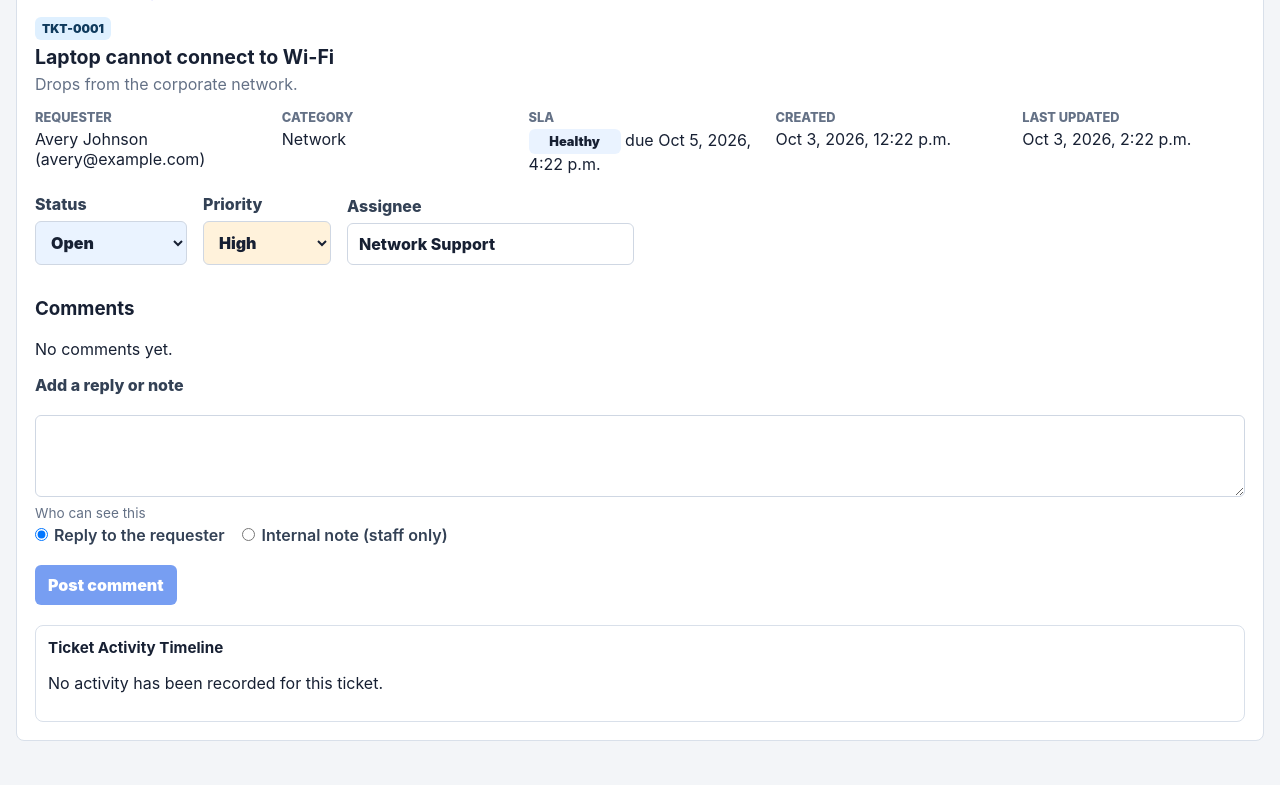
Test: writing › clears the form and reloads the thread after posting
This screenshot has width=1280, height=785.
(page scrolled)
Check: the heading "Comments" is shown, box [35,297,134,320]
Check: the text "No comments yet." is shown, box [35,339,173,359]
Type "Posted just now." into the text box labelled "Add a reply or note".
click(640, 456); type("Posted just now.")  # box [35,415,1245,497]
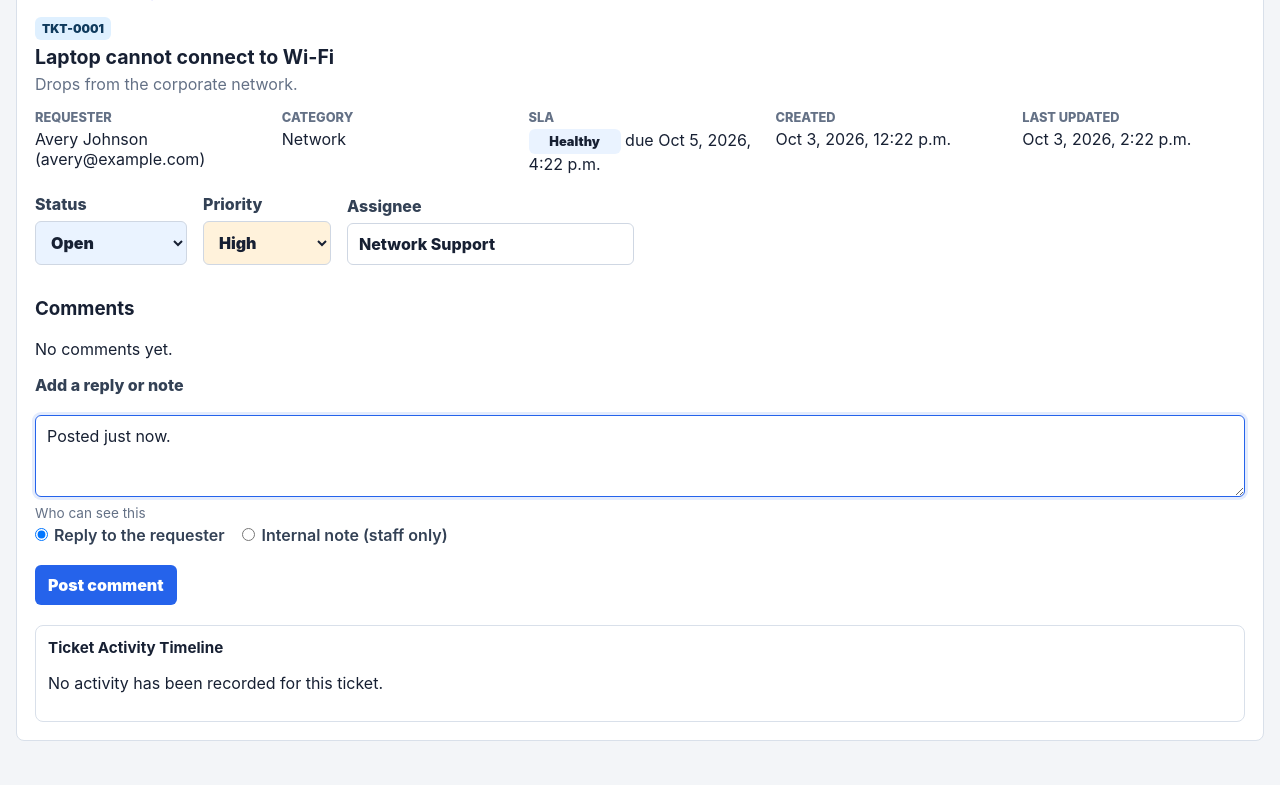
Click the radio button labelled "Internal note (staff only)".
click(249, 535)  # box [242,528,256,541]
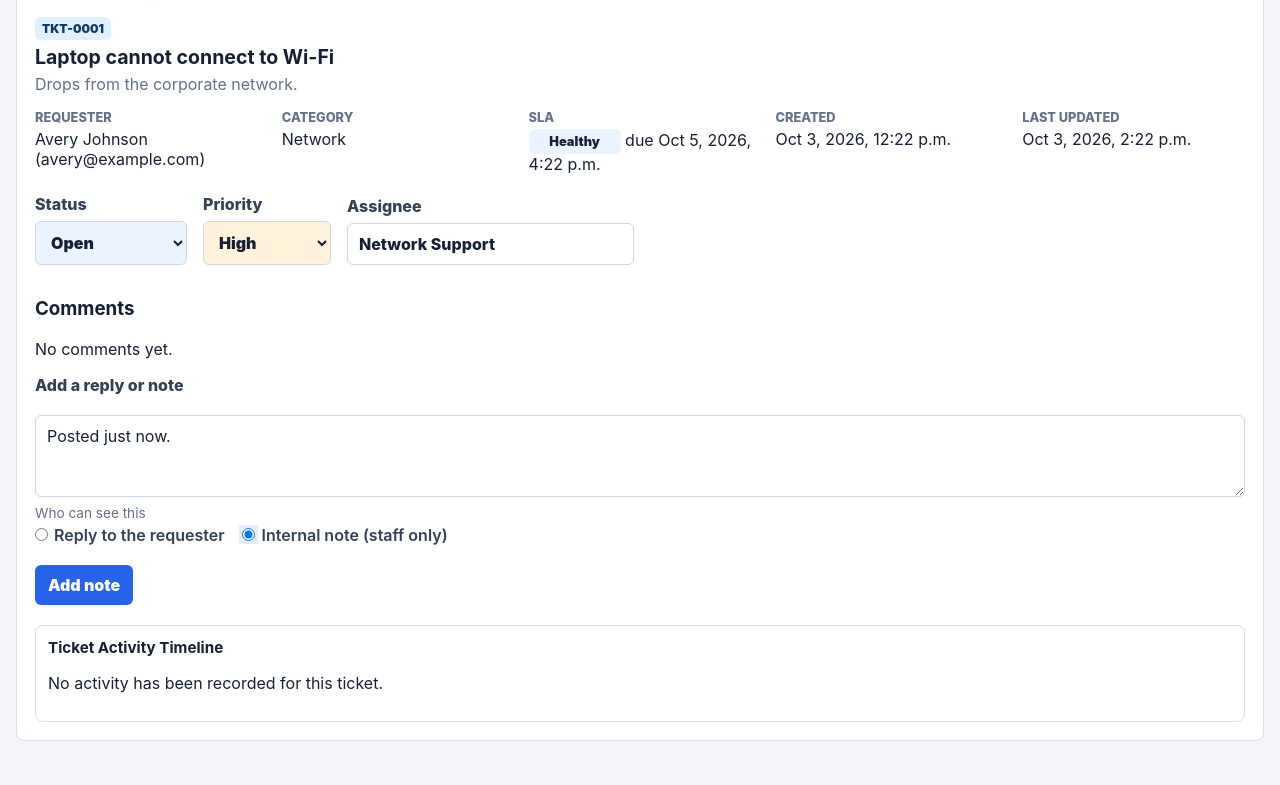
Click the button "Add note".
click(84, 585)  # box [35,565,133,605]
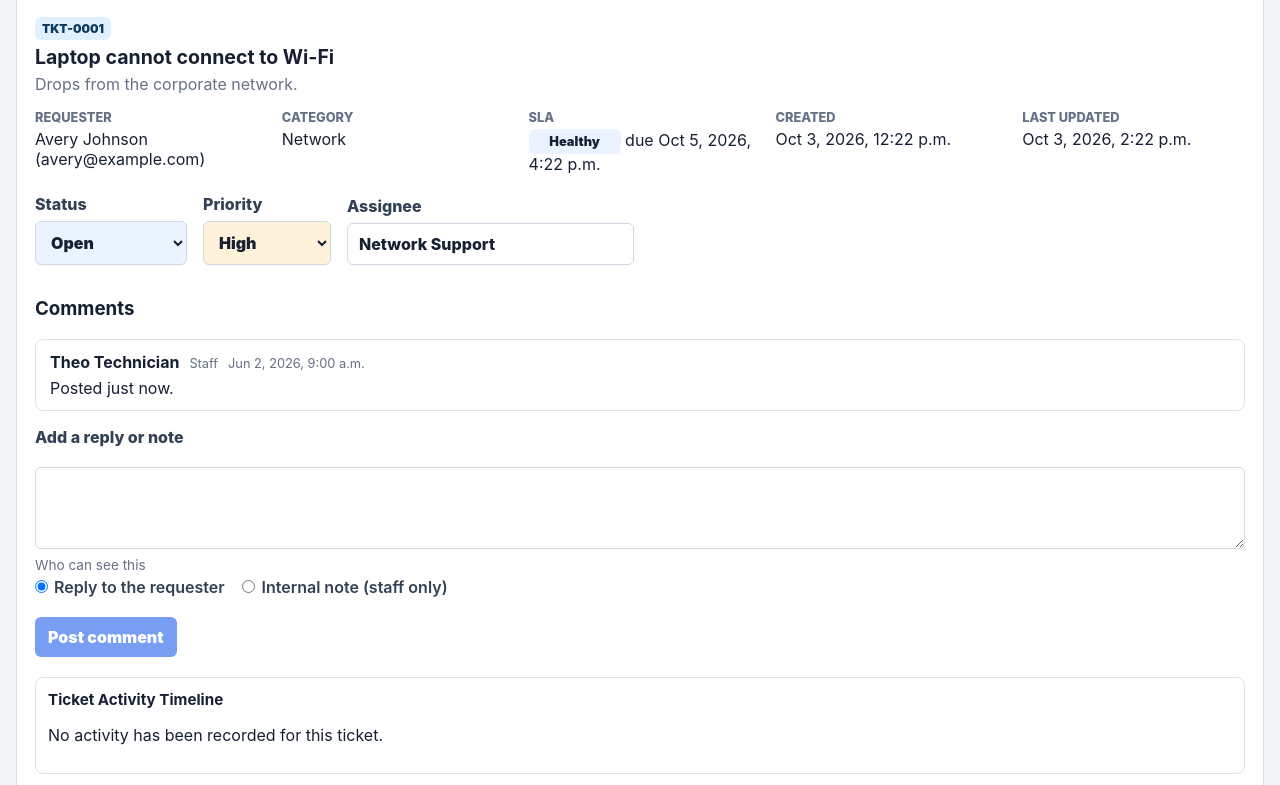
Check: the text "Posted just now." is shown, box [50,378,174,398]
Check: the text box labelled "Add a reply or note" is empty, box [35,467,1245,549]
Check: the radio button labelled "Reply to the requester" is checked, box [35,580,48,593]
